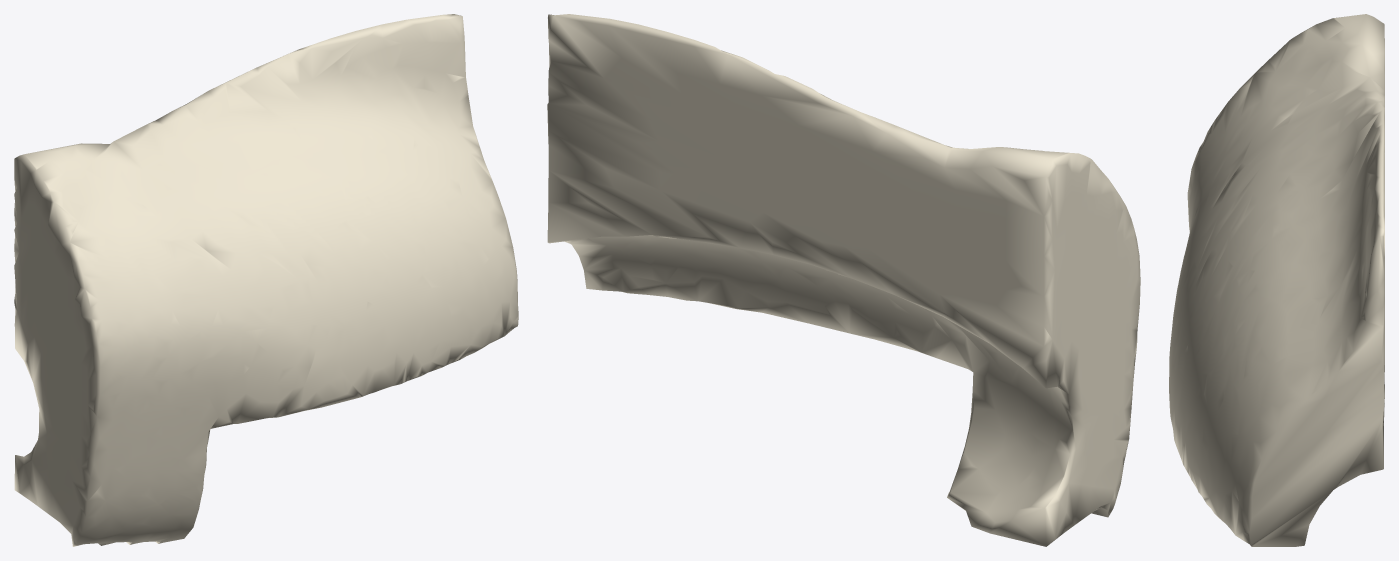
The model's file is parietal_l.glb.
3 renders of one model, left to right at view 1: azimuth 30°, elevation 25°; view 2: azimuth 150°, elevation 25°; view 3: azimuth 270°, elevation 25°, orthographic. The views are drawn at different scales.
Parts seen in each view (by area): view 1: geometry_0; view 2: geometry_0; view 3: geometry_0.
Boxes of the visible parts, bbox=[...] form: geometry_0: bbox=[14, 14, 518, 546]; geometry_0: bbox=[547, 14, 1140, 546]; geometry_0: bbox=[1169, 14, 1384, 546].
Size of the model in its own units: 0.3155 by 0.276 by 0.1137.
